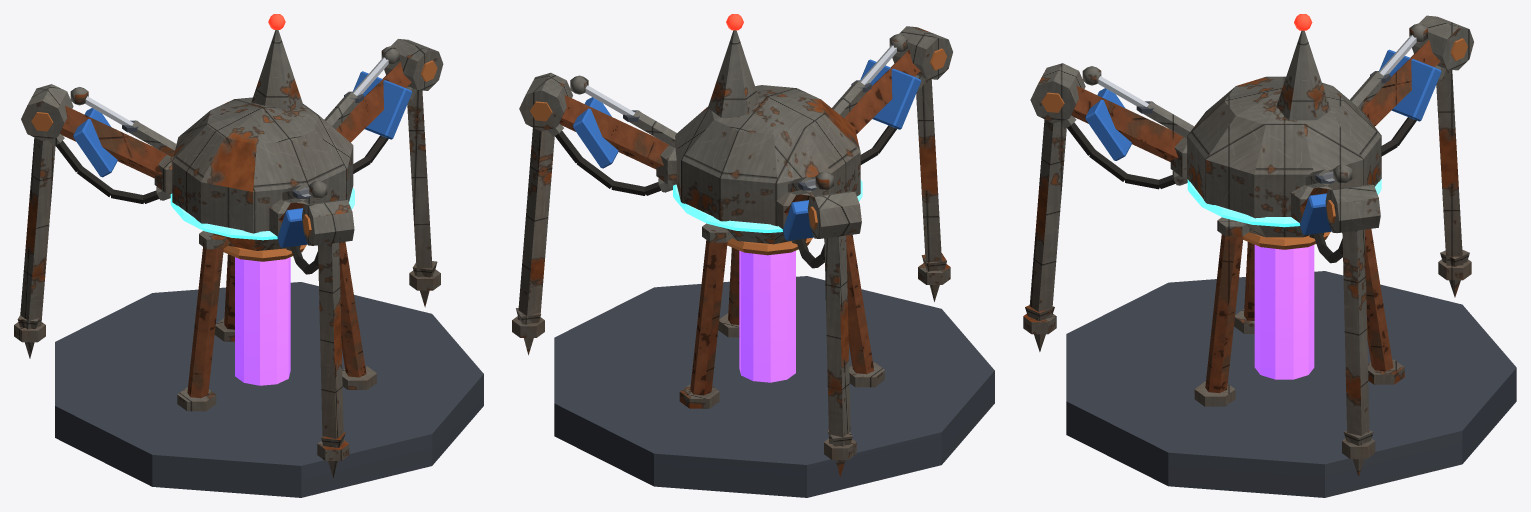
File: assimilateur.glb
3 renders of one model, left to right at view 1: azimuth 30°, elevation 25°; view 2: azimuth 150°, elevation 25°; view 3: azimuth 270°, elevation 25°, orthographic. The views are drawn at different scales.
Visible parts, largest first — view 1: assimilateur; view 2: assimilateur; view 3: assimilateur.
Boxes of the visible parts, x1,y1,x2,y2 form: assimilateur: (14,14,483,497); assimilateur: (512,14,994,497); assimilateur: (1023,14,1516,497).
Bounding box in the file's own units: 2.6 × 2.37 × 2.66.
Materials: 10 (2 with a texture image).
